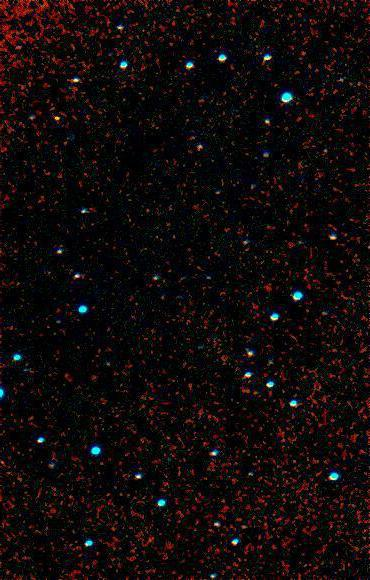star: (46, 104, 76, 134)
